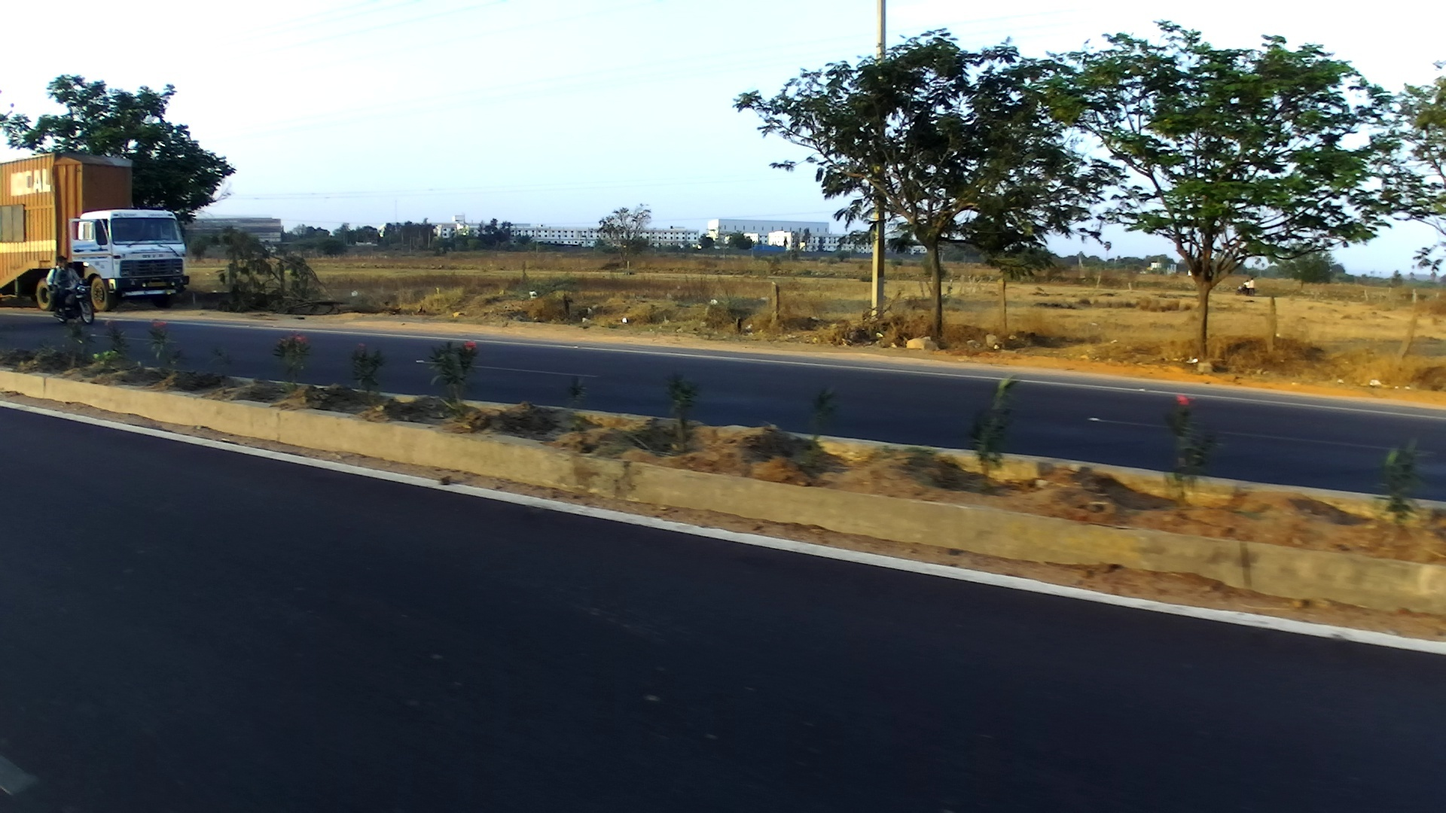motorcycle: (50, 280, 96, 325), (1237, 282, 1255, 298)
rider: (53, 258, 85, 321), (46, 257, 70, 312), (1247, 275, 1255, 296), (1243, 279, 1249, 294)
truck: (1, 154, 191, 309)
